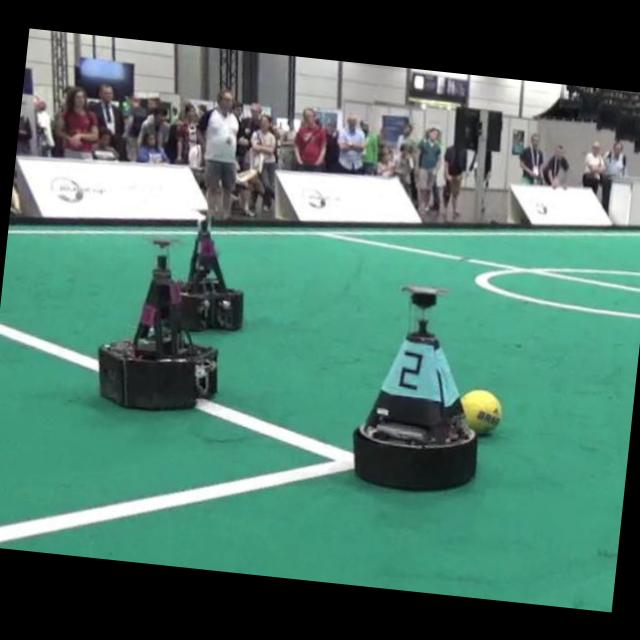ball: (460, 388, 502, 433)
robot: (353, 285, 477, 489), (98, 239, 217, 409), (181, 219, 243, 330)
